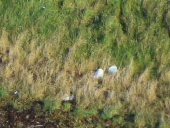scattered_barrel: (55, 55, 127, 105)
